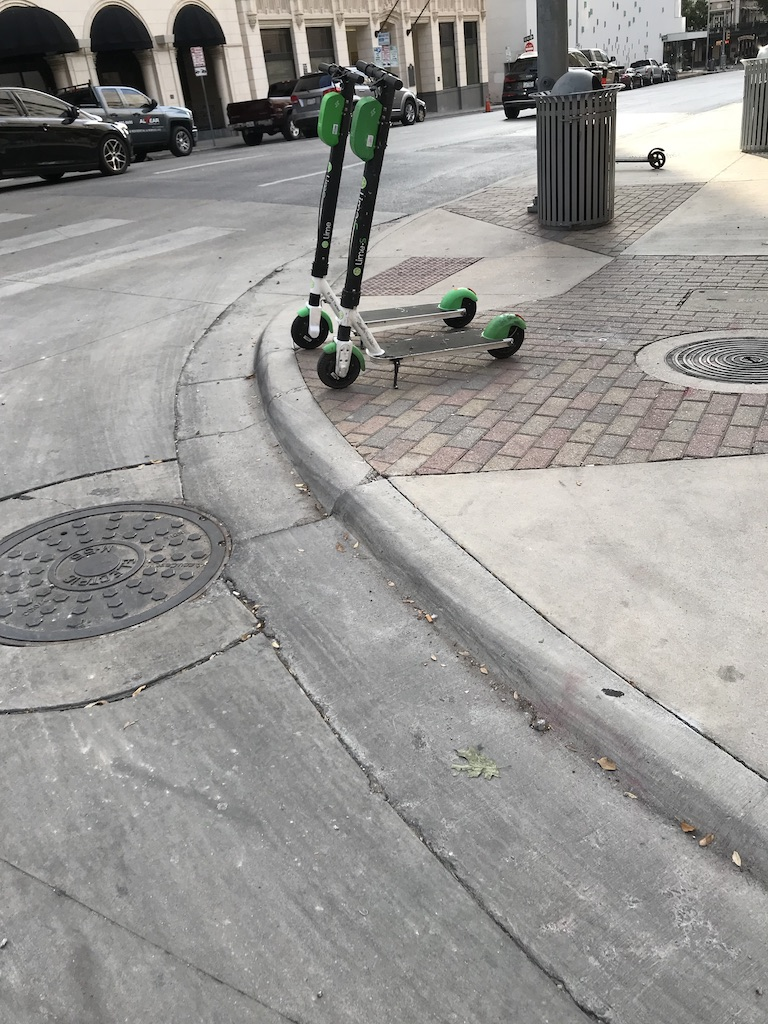scooter: (316, 61, 527, 391), (292, 63, 478, 350)
